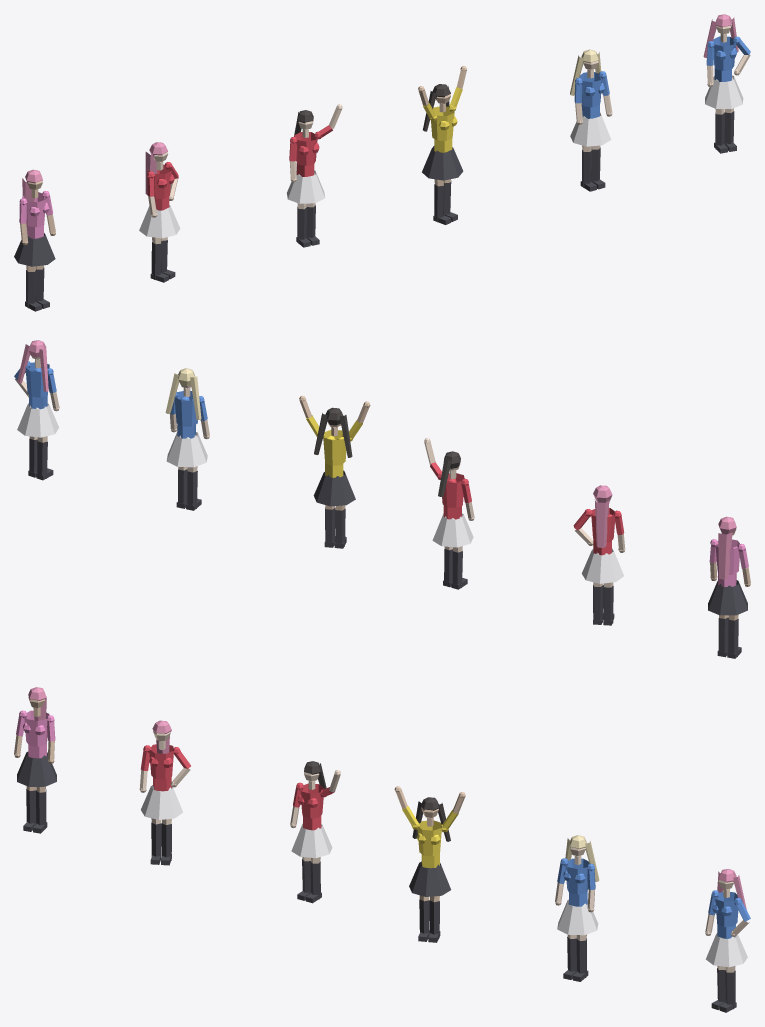
The model's file is crowd_angels_row_6.glb.
The picture shows the model from 3 angles, top to bottom: view 1: azimuth 30°, elevation 25°; view 2: azimuth 150°, elevation 25°; view 3: azimuth 330°, elevation 25°; orthographic projection. The views are drawn at different scales.
Parts seen in each view (by area): view 1: crowd_angels_row_6; view 2: crowd_angels_row_6; view 3: crowd_angels_row_6.
Boxes of the visible parts, x1,y1,x2,y2 form: crowd_angels_row_6: (14, 14, 750, 311); crowd_angels_row_6: (14, 340, 750, 658); crowd_angels_row_6: (14, 687, 750, 1012).
Bounding box in the file's own units: 9.55 × 1.81 × 0.85.
